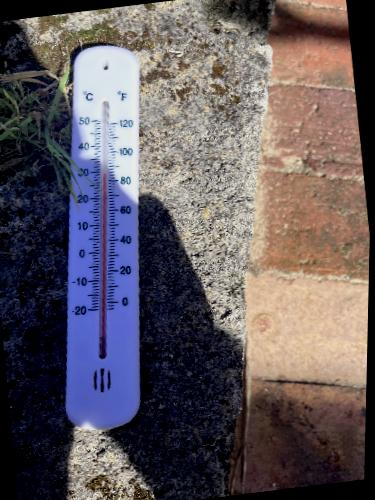thermo: (57, 48, 141, 424)
